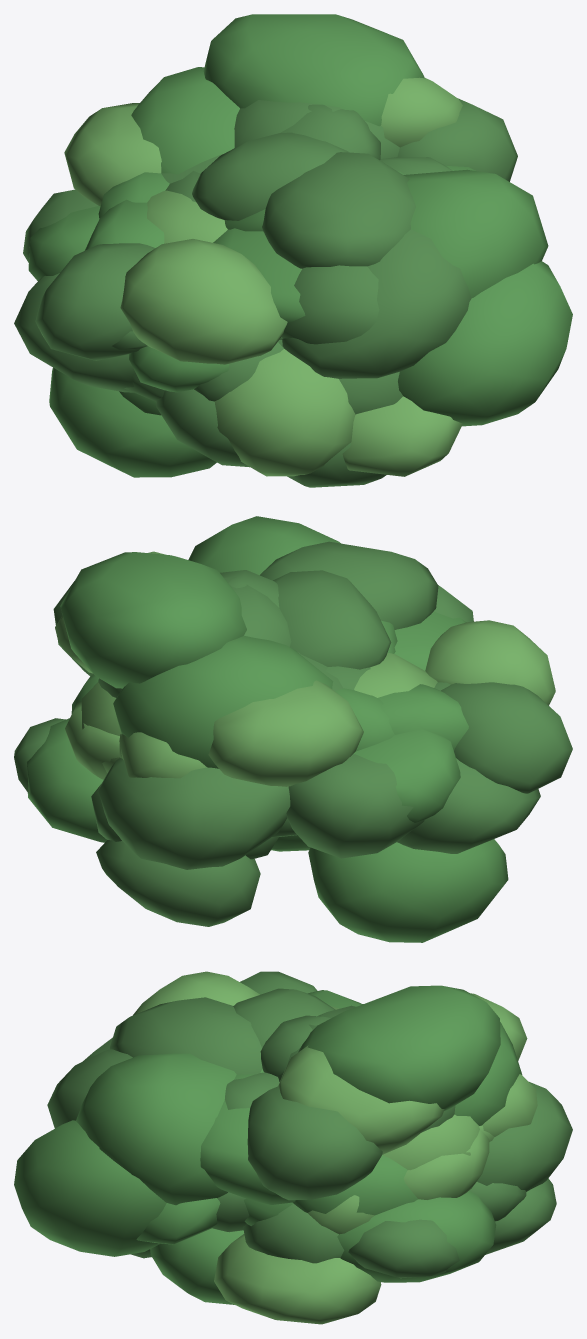
Rendered from bush_wide.glb.
3 views of the same model, one above another, from view 1: azimuth 30°, elevation 25°; view 2: azimuth 150°, elevation 25°; view 3: azimuth 270°, elevation 25° (orthographic). The views are drawn at different scales.
Visible parts, largest first — view 1: bush_wide_Canopy0, bush_wide_Canopy2, bush_wide_Canopy1; view 2: bush_wide_Canopy2, bush_wide_Canopy0, bush_wide_Canopy1; view 3: bush_wide_Canopy0, bush_wide_Canopy2, bush_wide_Canopy1.
Part boxes in pixels (bbox=[...]): bush_wide_Canopy0: bbox=[28, 14, 572, 477]; bush_wide_Canopy2: bbox=[14, 98, 517, 487]; bush_wide_Canopy1: bbox=[64, 77, 462, 476]; bush_wide_Canopy2: bbox=[14, 541, 572, 926]; bush_wide_Canopy0: bbox=[27, 516, 508, 942]; bush_wide_Canopy1: bbox=[55, 551, 555, 786]; bush_wide_Canopy0: bbox=[14, 985, 522, 1304]; bush_wide_Canopy2: bbox=[47, 971, 572, 1278]; bush_wide_Canopy1: bbox=[133, 971, 537, 1324].
Size of the model in its own units: 1.59 by 1.09 by 1.71.
